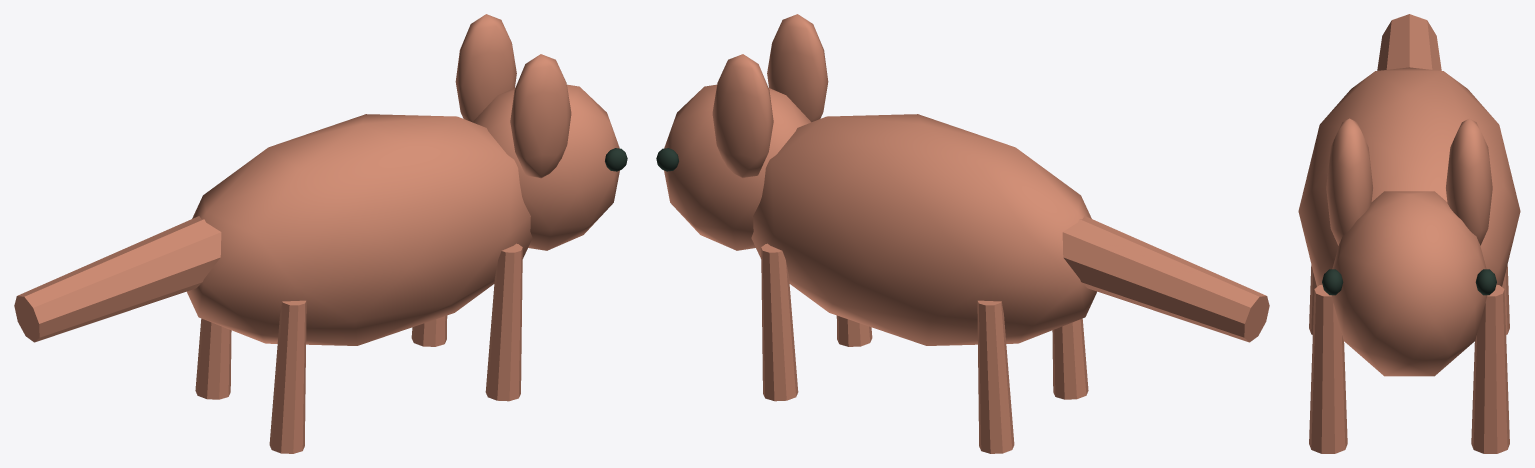
The model's file is Carnivore_A.fbx.
The picture shows the model from 3 angles, left to right: view 1: azimuth 30°, elevation 25°; view 2: azimuth 150°, elevation 25°; view 3: azimuth 270°, elevation 25°; orthographic projection. The views are drawn at different scales.
Parts seen in each view (by area): view 1: Carnivore_A; view 2: Carnivore_A; view 3: Carnivore_A.
Part boxes in pixels (x1,y1,x2,y2): Carnivore_A: (14, 14, 627, 453); Carnivore_A: (656, 14, 1269, 453); Carnivore_A: (1298, 14, 1520, 453).
Bounding box in the file's own units: 174 × 91.21 × 52.
